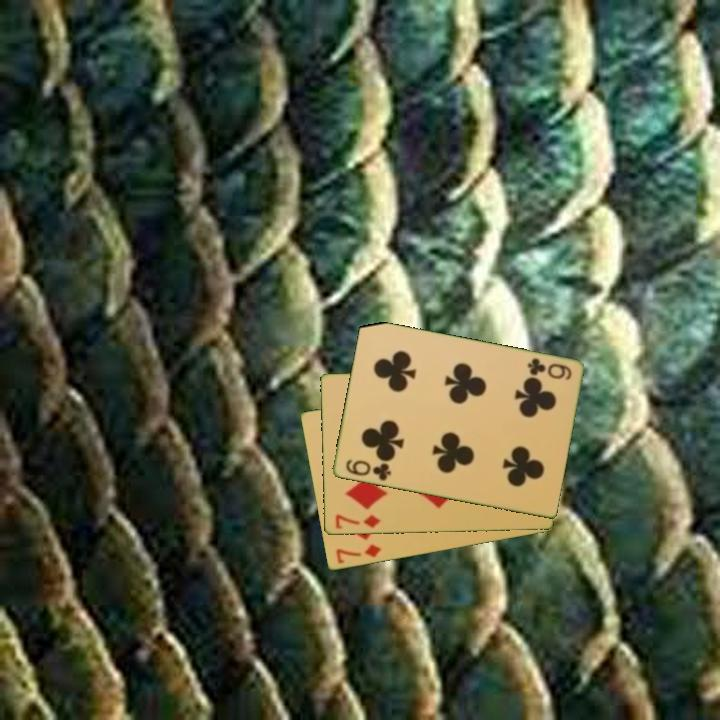6c: (524, 354, 574, 383), (342, 456, 393, 484)
7d: (332, 541, 384, 567), (331, 511, 383, 532)
